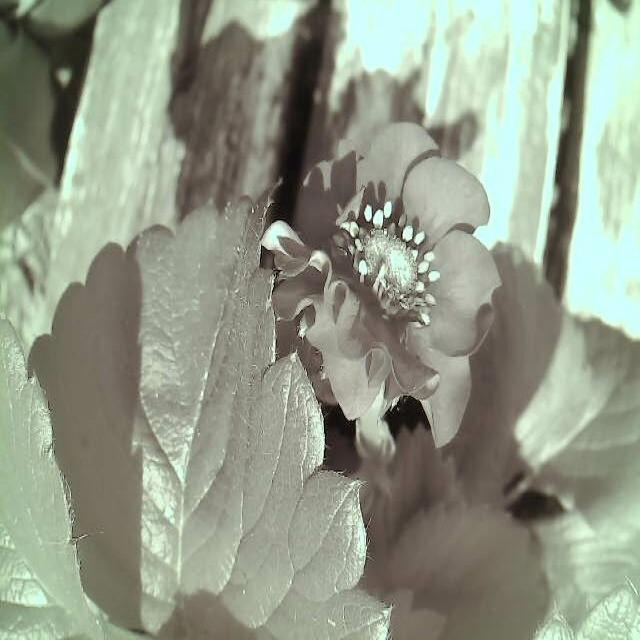flower: (265, 121, 514, 465)
